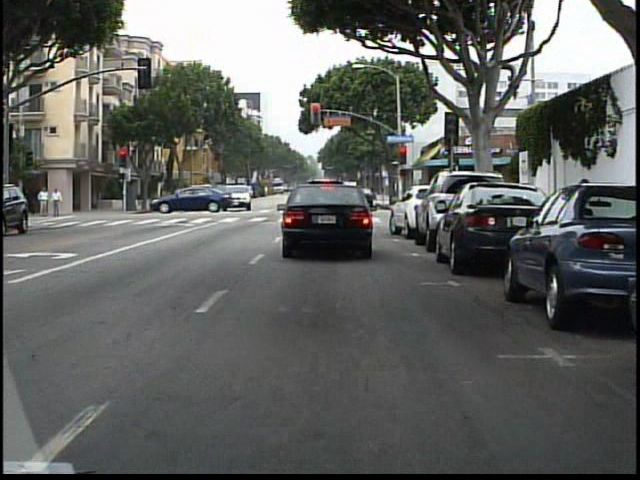person: (37, 185, 53, 219), (51, 187, 66, 219), (26, 187, 40, 218)
